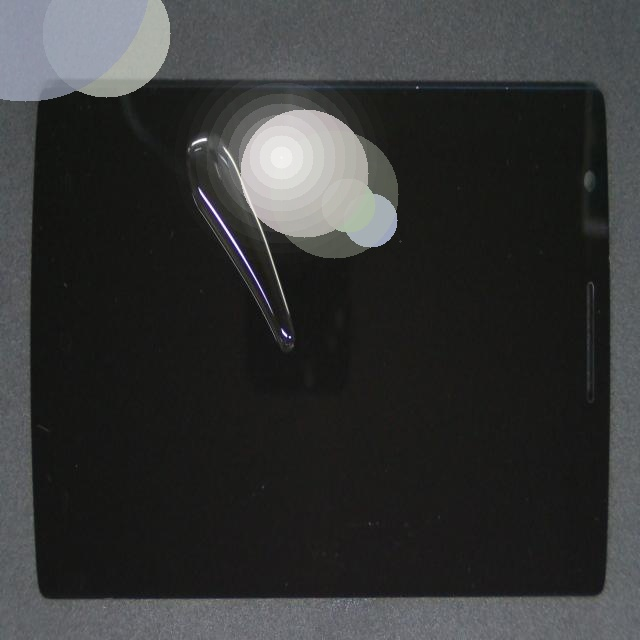oil: (144, 219, 443, 527)
